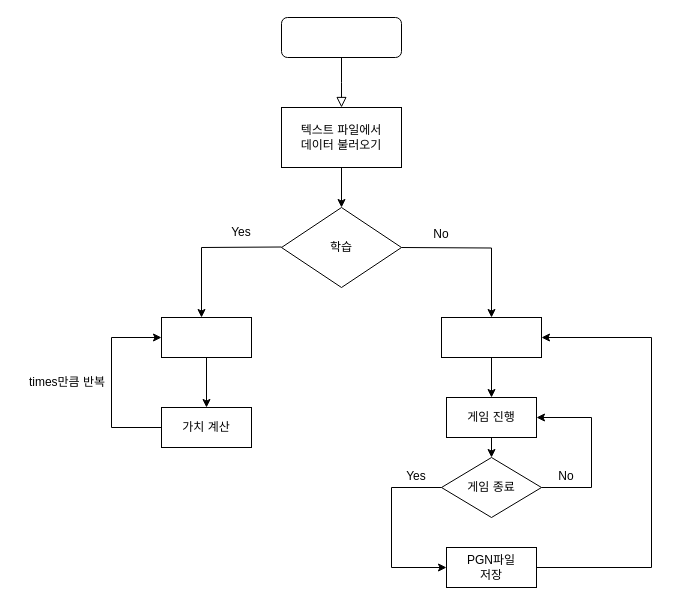
Image size: 677x605. Some labels were removed from this diagram. The shapes that lost their labels are listed below. From the top down, each one's box as (x1, y1, x2, y2) in pixels, then its label:
(280, 16, 402, 58): ChessEngine 객체 생성
(160, 316, 252, 358): 에피소드 생성
(440, 316, 542, 358): 게임 시작
